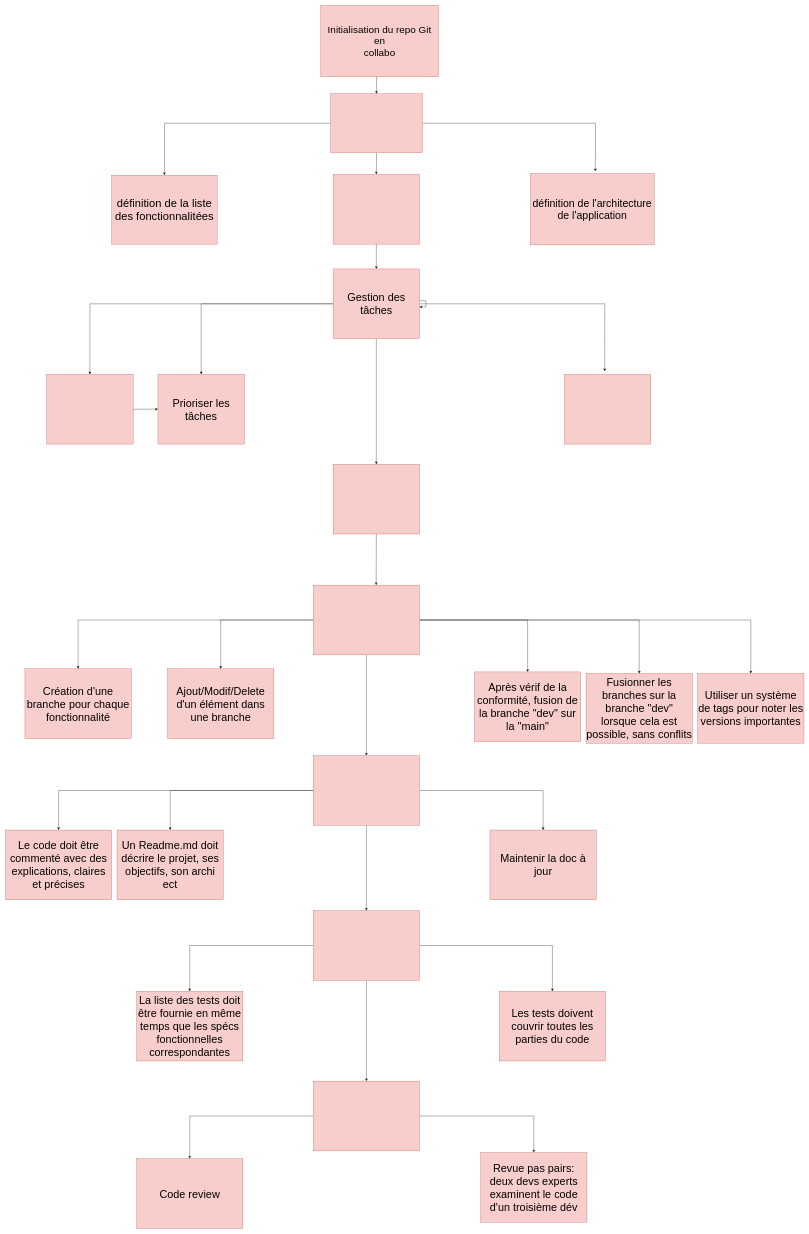
This 809x1234 diagram has some shape labels left out. The shapes that lost their labels are listed below. From the top down, each one's centre as x and y in pixels, then its label:
pixel 376 123: Lecture du cahier des charges
pixel 376 209: définition de l'arborescence
pixel 89 409: Définir les tâches
pixel 607 409: Suivre les tâches
pixel 376 499: Versionning et Développement
pixel 366 620: Utilisation d'un système de versionnement
pixel 366 790: Documentation Technique
pixel 366 945: Tests Unitaires et Intégration
pixel 366 1116: Assurance qualité
